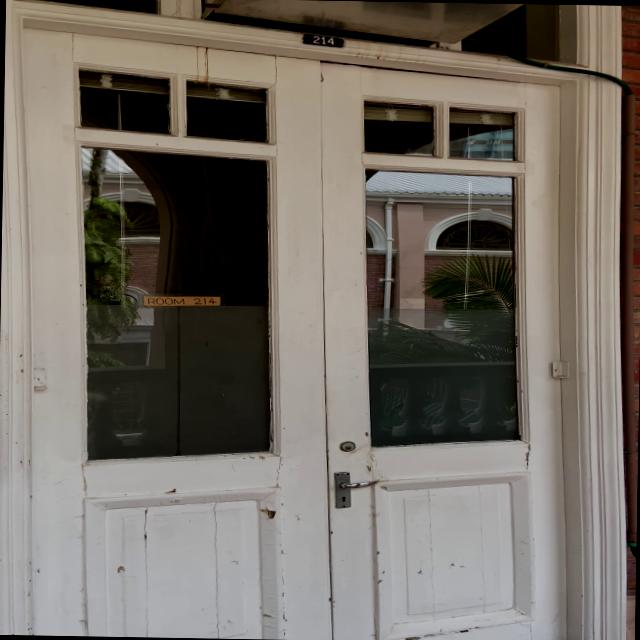room214: (301, 32, 348, 50)
room214Window: (133, 292, 230, 308)
